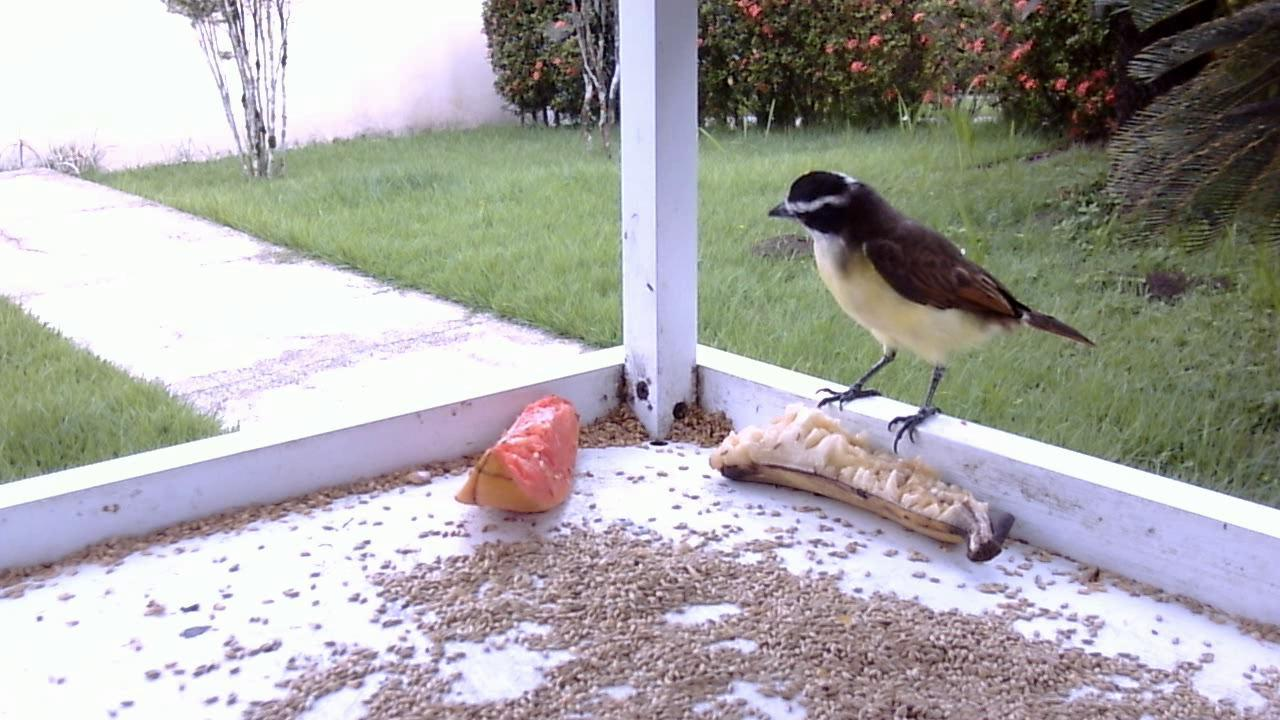bem_te_vi: (755, 162, 1098, 468)
